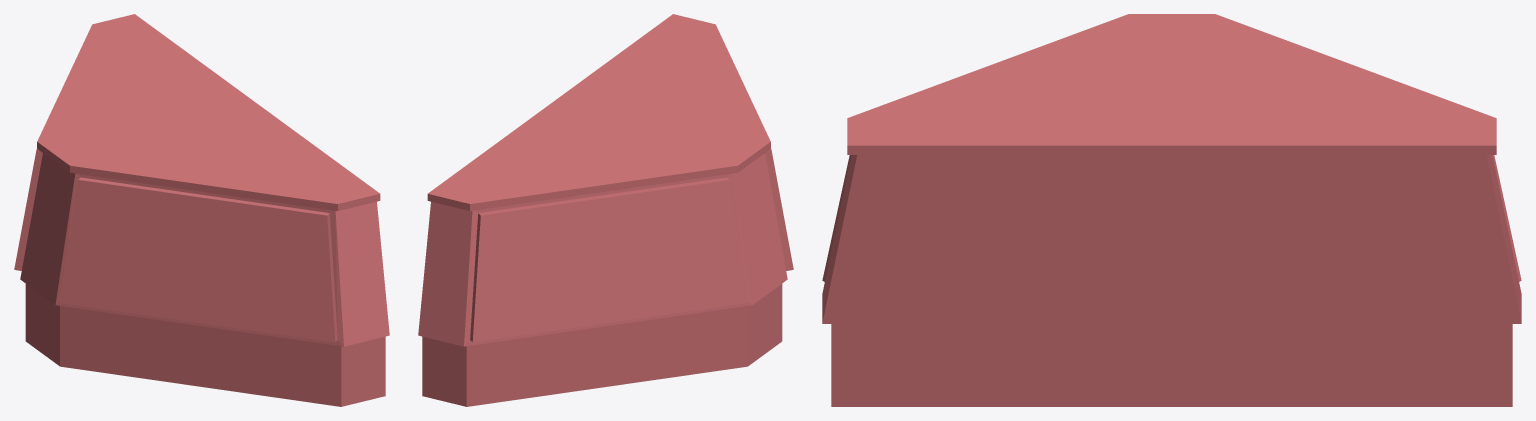
The model's file is nolq_3d_esm.obj.
3 views of the same model, side by side, from view 1: azimuth 30°, elevation 25°; view 2: azimuth 150°, elevation 25°; view 3: azimuth 270°, elevation 25° (orthographic). The views are drawn at different scales.
Visible parts, largest first — view 1: body; view 2: body; view 3: body.
Part boxes in pixels (x1=…): body: x1=14, y1=14, x2=389, y2=406; body: x1=418, y1=14, x2=793, y2=406; body: x1=822, y1=14, x2=1521, y2=406.
Bounding box in the file's own units: 1.45 × 1.24 × 3.
